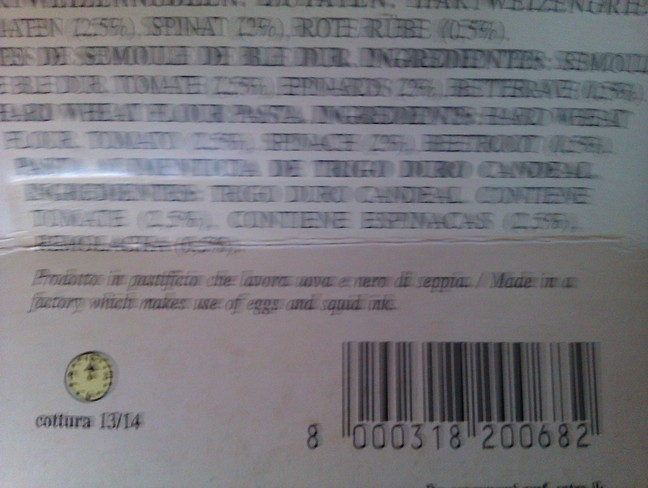barcode: (301, 332, 614, 462)
